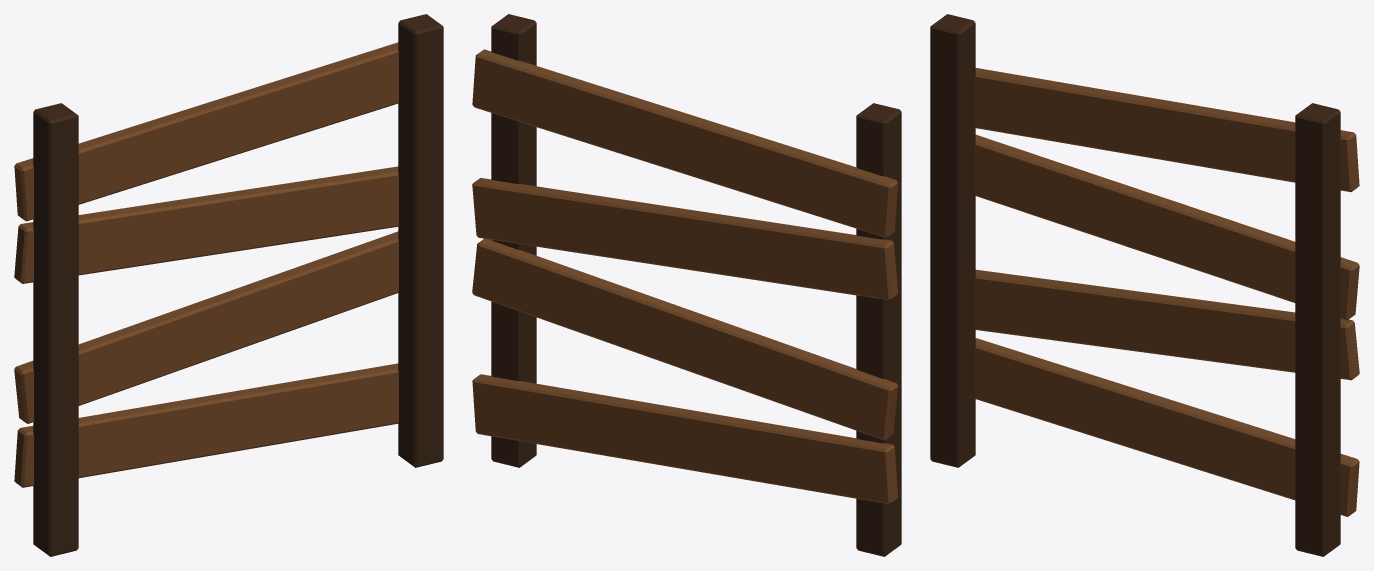
File: boarded_barricade.obj
The picture shows the model from 3 angles, left to right: view 1: azimuth 30°, elevation 25°; view 2: azimuth 150°, elevation 25°; view 3: azimuth 330°, elevation 25°; orthographic projection.
Parts seen in each view (by area): view 1: Plank_1, Plank_3, Plank_0, Plank_2, Post_-0.34, Post_1.34; view 2: Plank_1, Plank_3, Plank_0, Plank_2, Post_-0.34, Post_1.34; view 3: Plank_2, Plank_0, Plank_3, Plank_1, Post_1.34, Post_-0.34.
Part boxes in pixels (left/top/right/bottom): Plank_1: left=14, top=231, right=398, bottom=423; Plank_3: left=14, top=42, right=398, bottom=221; Plank_0: left=14, top=363, right=398, bottom=487; Plank_2: left=14, top=166, right=398, bottom=283; Post_-0.34: left=33, top=103, right=78, bottom=556; Post_1.34: left=398, top=14, right=443, bottom=467; Plank_1: left=472, top=238, right=898, bottom=440; Plank_3: left=472, top=49, right=897, bottom=237; Plank_0: left=472, top=374, right=897, bottom=504; Plank_2: left=472, top=178, right=898, bottom=300; Post_-0.34: left=856, top=103, right=901, bottom=556; Post_1.34: left=491, top=14, right=536, bottom=467; Plank_2: left=975, top=134, right=1359, bottom=320; Plank_0: left=975, top=338, right=1359, bottom=516; Plank_3: left=975, top=68, right=1359, bottom=191; Plank_1: left=975, top=269, right=1359, bottom=380; Post_1.34: left=1295, top=103, right=1340, bottom=556; Post_-0.34: left=930, top=14, right=975, bottom=467.
Bounding box in the file's own units: 1.93 × 1.92 × 0.195.
